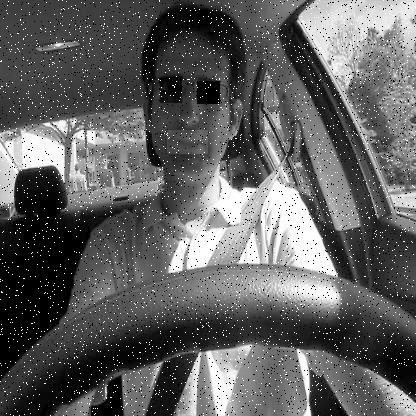seatbelt: (127, 6, 310, 274)
